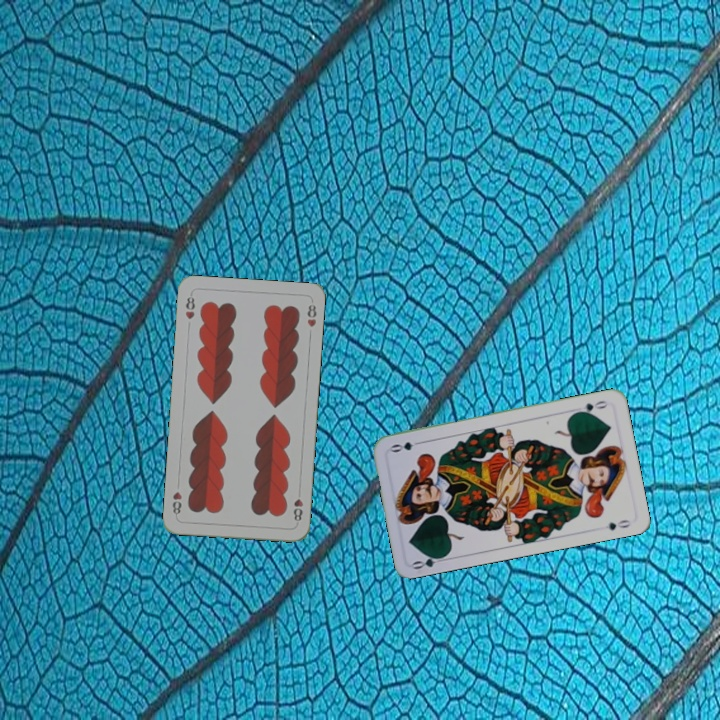GO: (409, 551, 450, 572), (572, 397, 610, 417)
H8: (289, 486, 305, 523), (181, 290, 197, 322)
